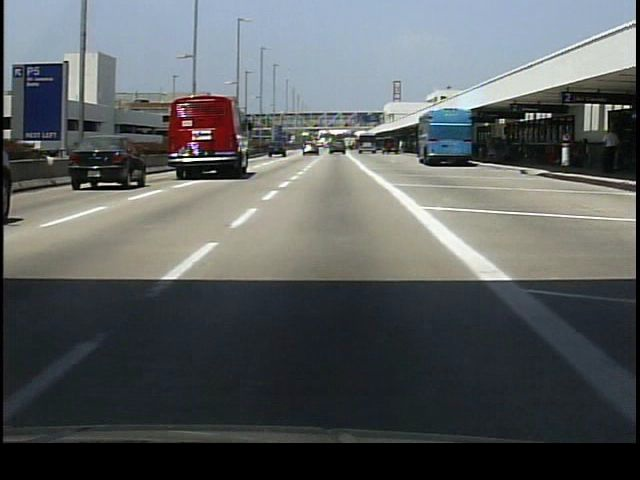person: (601, 130, 620, 175)
